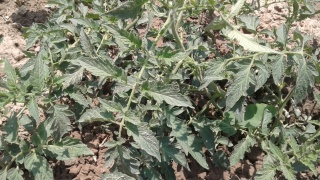tomato plant: (49, 1, 315, 134), (1, 47, 108, 174)
